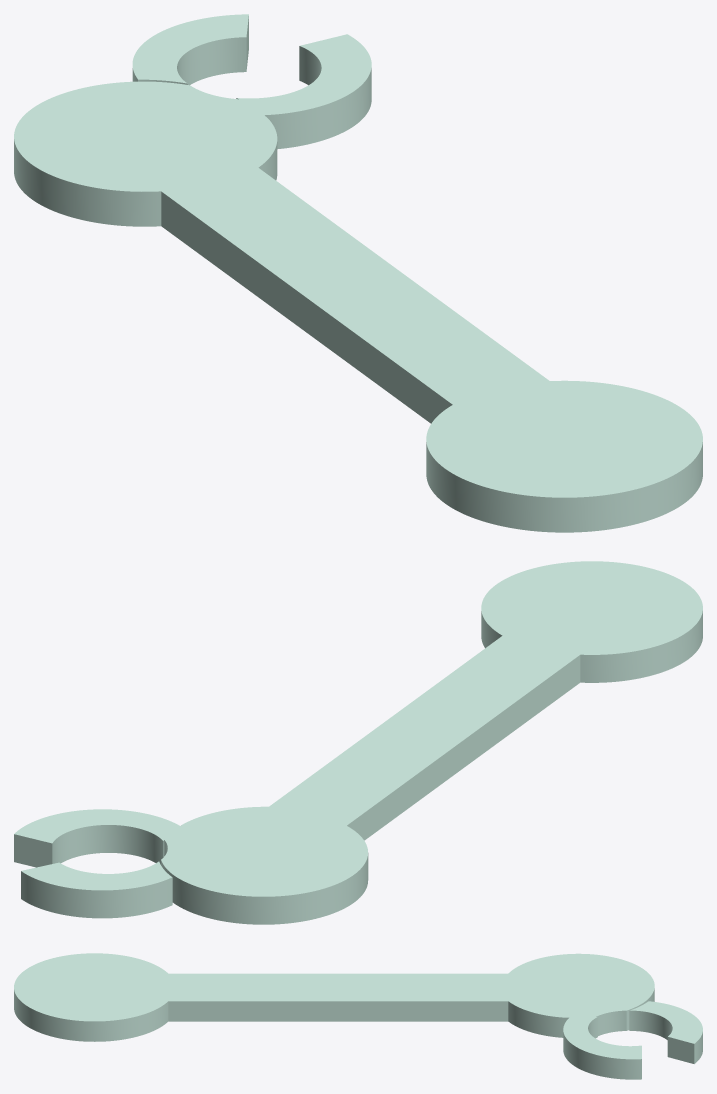
The picture shows the model from 3 angles, top to bottom: view 1: azimuth 30°, elevation 25°; view 2: azimuth 150°, elevation 25°; view 3: azimuth 270°, elevation 25°; orthographic projection. The views are drawn at different scales.
Parts seen in each view (by area): view 1: Renderer Node; view 2: Renderer Node; view 3: Renderer Node.
Part boxes in pixels (x1,y1,x2,y2): Renderer Node: [14, 14, 702, 532]; Renderer Node: [14, 561, 702, 924]; Renderer Node: [14, 953, 702, 1079].
Bounding box in the file's own units: 0.5239 × 0.0469 × 1.44.
